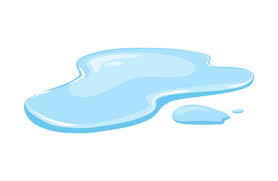Wet-floor: (25, 35, 261, 133)
